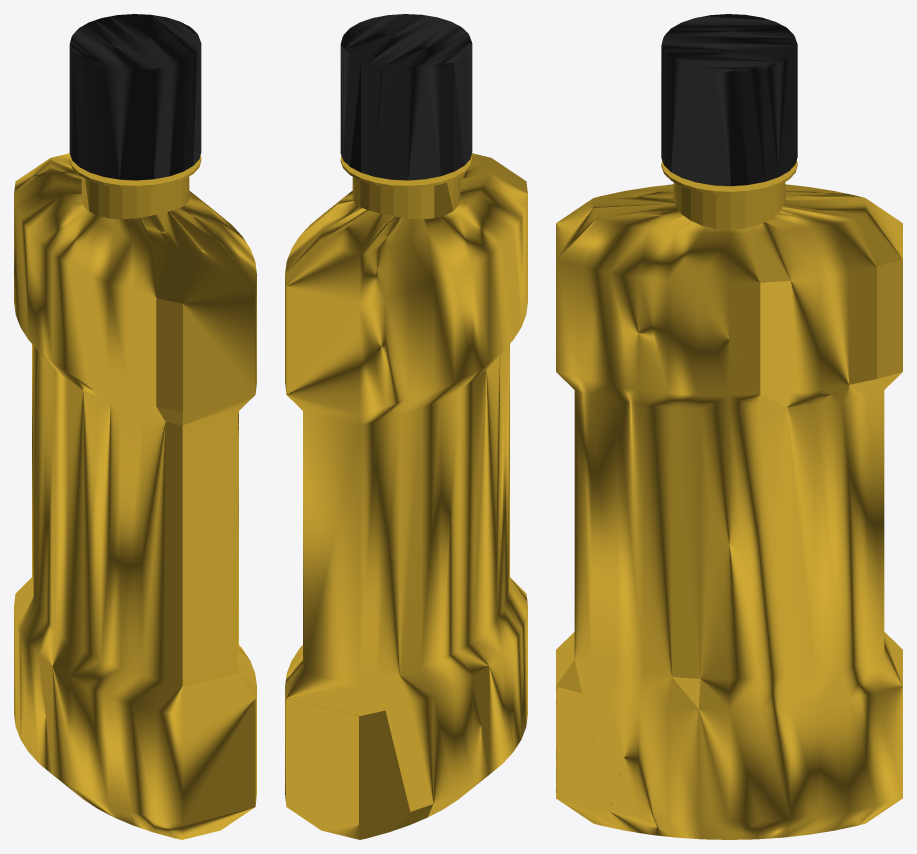
Rendered from bottle.ori.obj.
The picture shows the model from 3 angles, left to right: view 1: azimuth 30°, elevation 25°; view 2: azimuth 150°, elevation 25°; view 3: azimuth 270°, elevation 25°; orthographic projection. The views are drawn at different scales.
Bounding box in the file's own units: 0.043 × 0.1849 × 0.0753.
